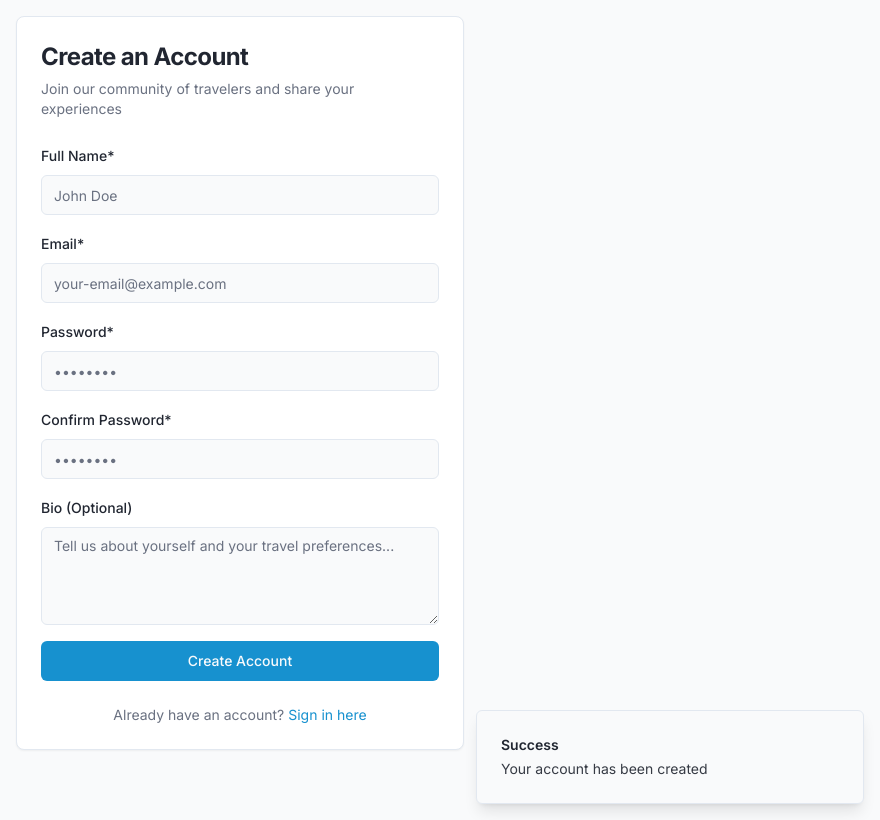
Register Page › handles registration failure correctly
# Fill in form fields
Type "Test User" into the field labelled "Full Name*" at [240, 195], box x1=41 y1=175 x2=439 y2=215
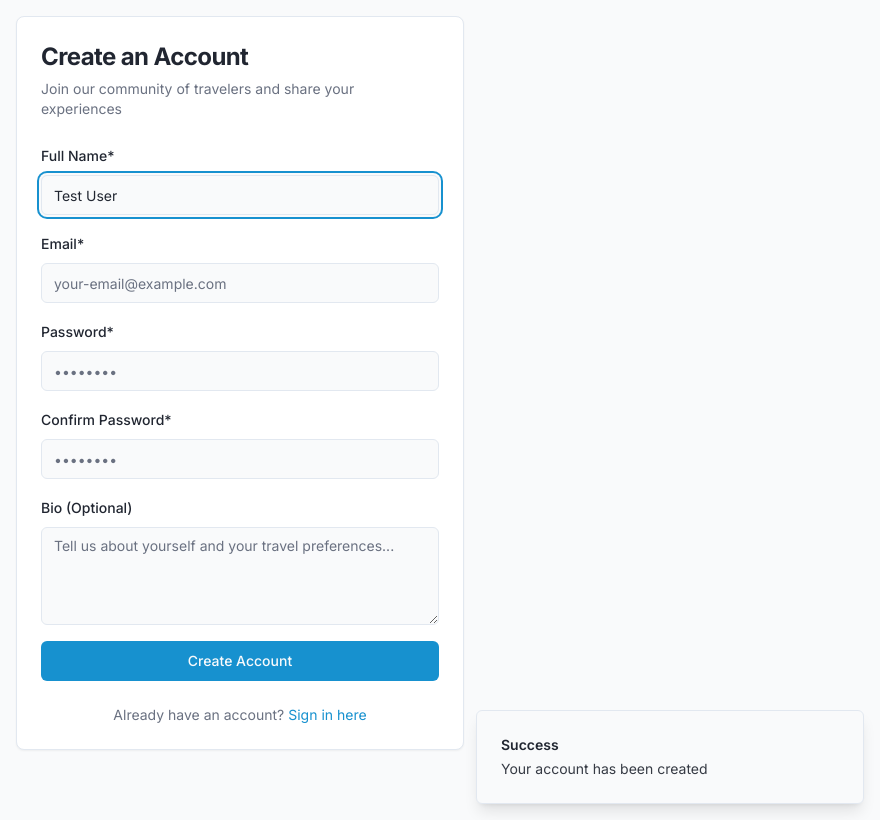
Type "test@example.com" into the field labelled "Email*" at [240, 283], box x1=41 y1=263 x2=439 y2=303
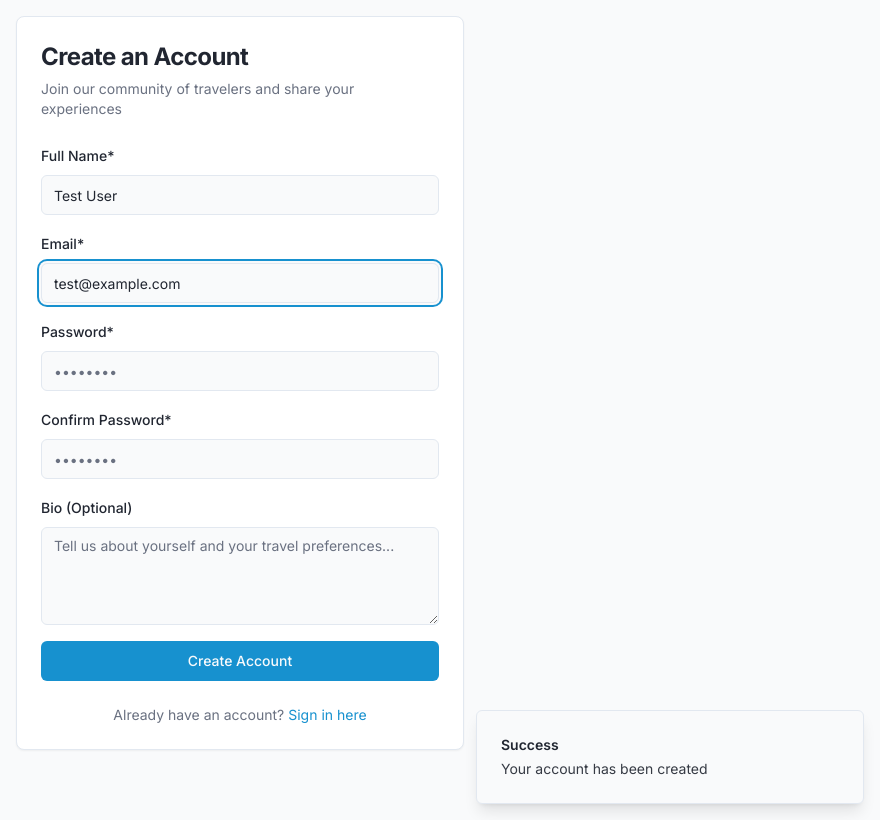
Type "password123" into the password field labelled "Password*" at [240, 371], box x1=41 y1=351 x2=439 y2=391
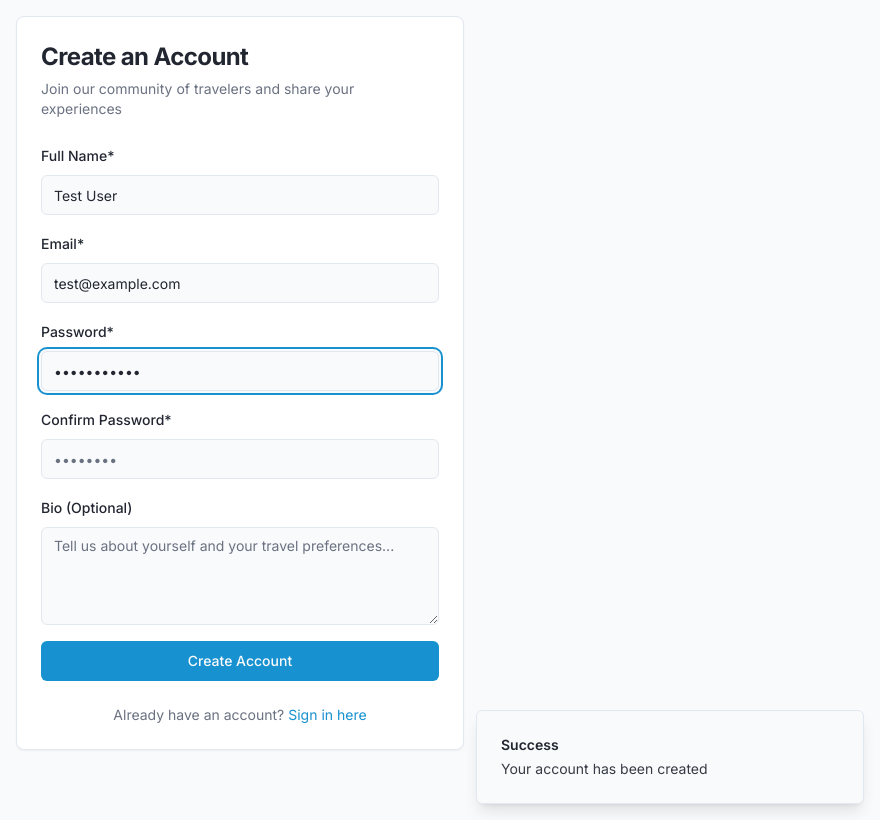
Type "password123" into the password field labelled "Confirm Password*" at [240, 459], box x1=41 y1=439 x2=439 y2=479
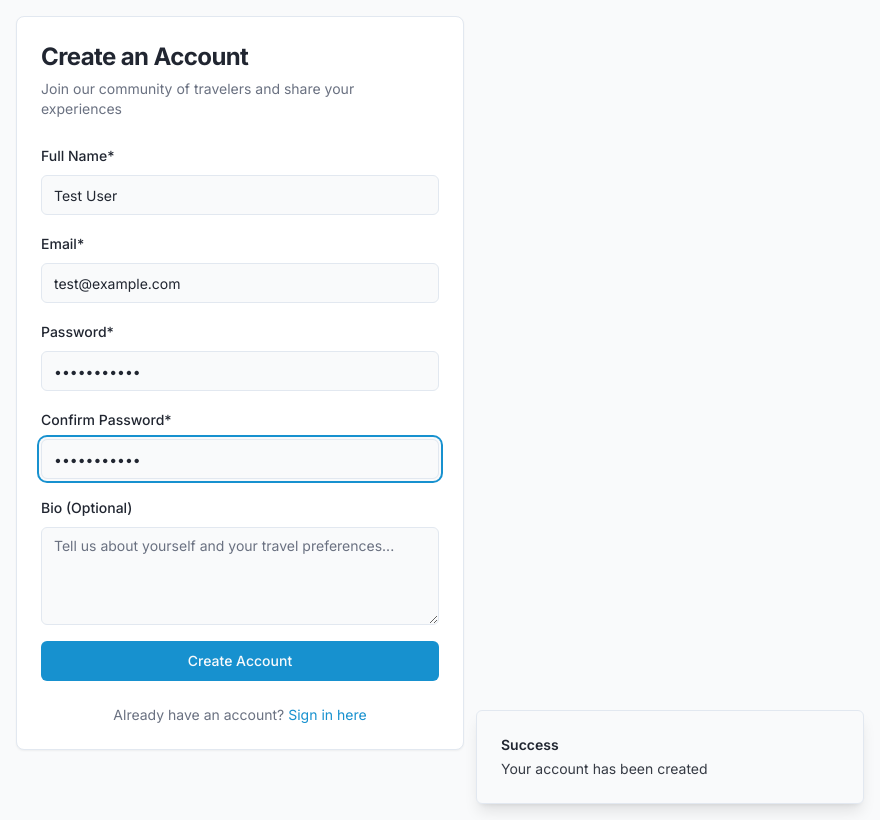
# Submit the form
Click the button "Create Account" at [240, 661], box x1=41 y1=641 x2=439 y2=681
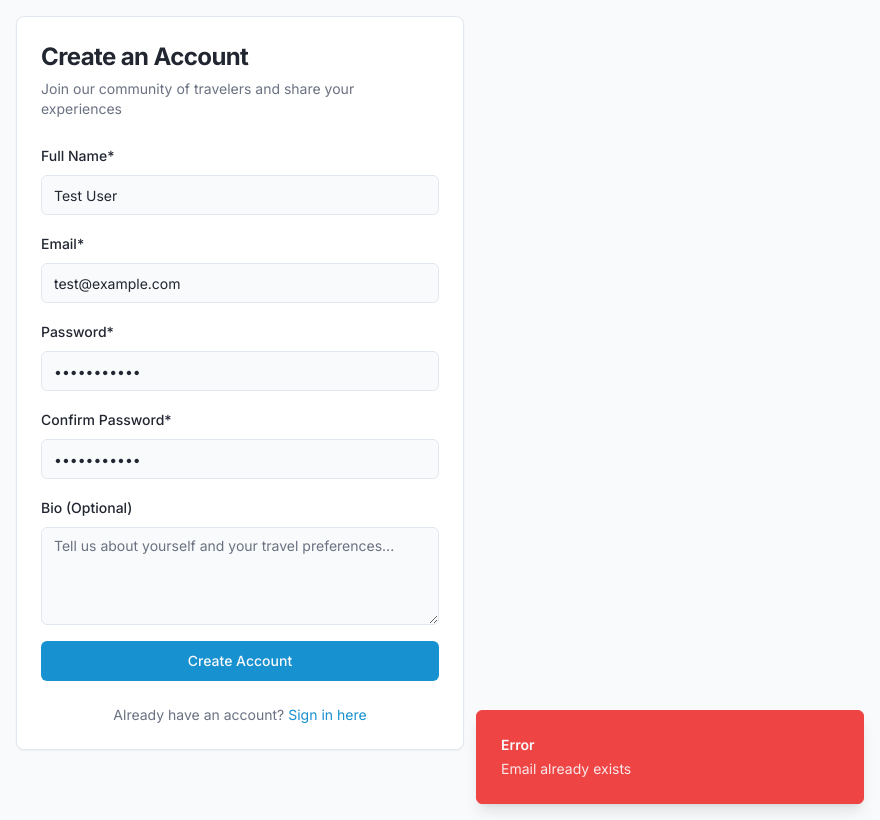
Check: the text "Email already exists" is shown, box x1=501 y1=759 x2=631 y2=779
